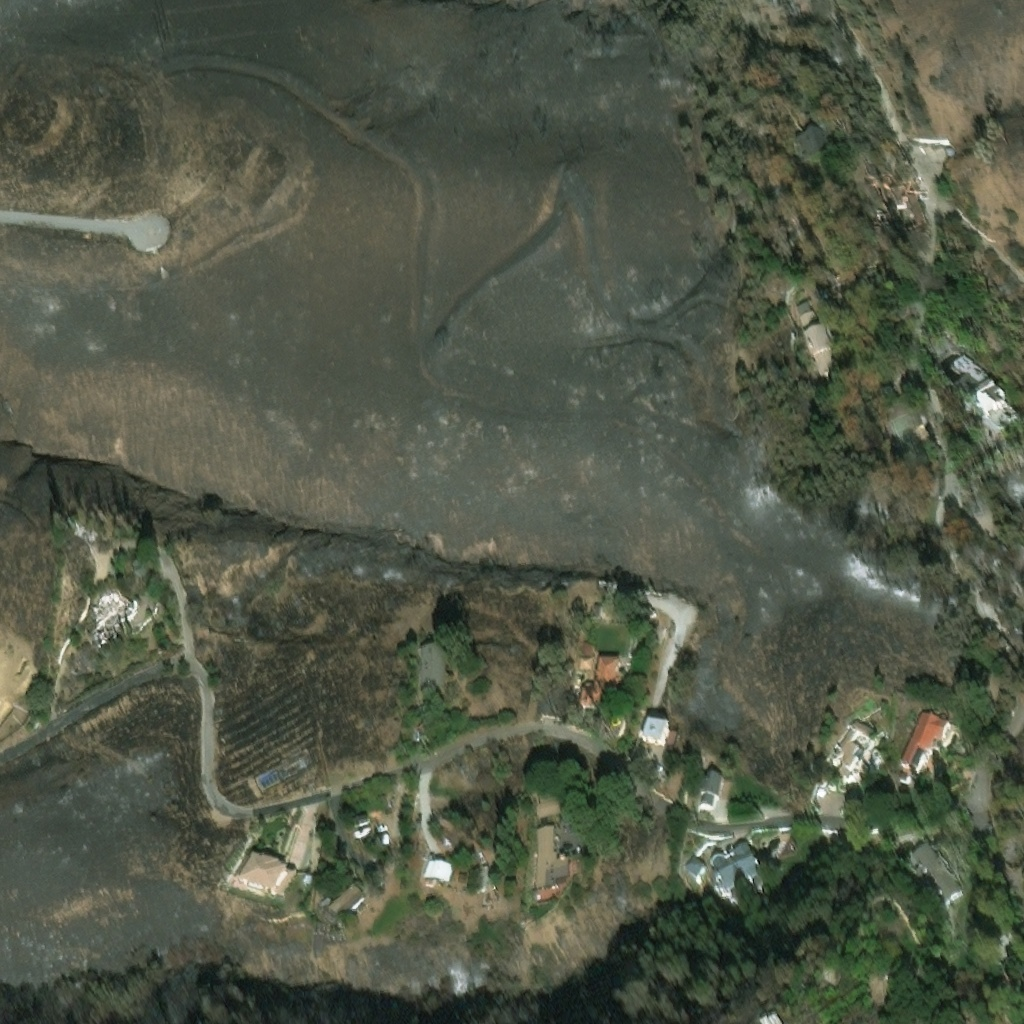0 no-damage: (910, 830, 975, 905), (230, 850, 298, 907), (793, 293, 837, 371), (828, 714, 876, 783), (707, 838, 763, 895), (896, 707, 948, 768), (577, 655, 626, 711), (536, 828, 575, 896), (323, 884, 366, 926), (418, 645, 447, 692), (694, 770, 723, 811), (643, 718, 680, 750), (418, 857, 456, 886), (577, 638, 599, 669), (683, 851, 707, 877), (916, 413, 935, 436), (479, 866, 492, 896), (303, 875, 314, 887), (539, 896, 550, 907), (812, 782, 823, 792), (354, 813, 366, 822), (921, 133, 932, 142), (380, 831, 388, 842), (459, 874, 466, 882), (938, 127, 945, 134)
1 minor-damage: (793, 118, 824, 152), (758, 1011, 782, 1023)
2 major-damage: (942, 346, 1018, 433)
3 destroyed: (90, 587, 138, 639), (874, 180, 926, 226), (766, 21, 783, 35), (796, 0, 808, 5)
